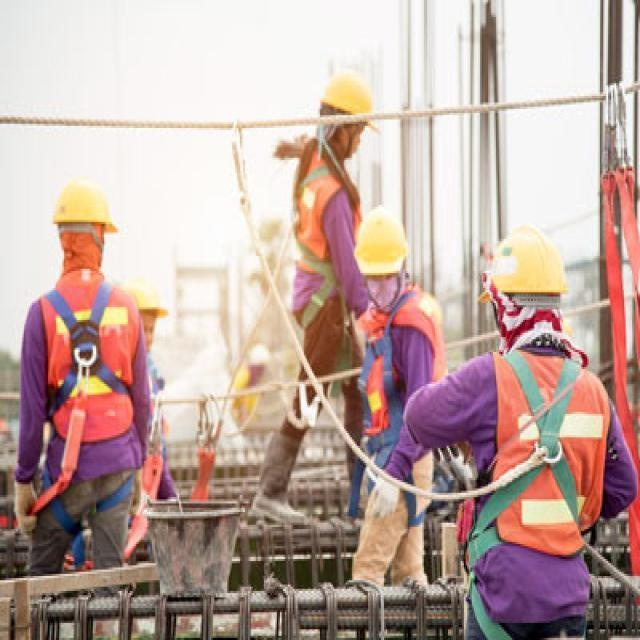Arnes_seguridad: (462, 341, 600, 638), (352, 286, 435, 531), (39, 269, 135, 437), (285, 143, 354, 333)
